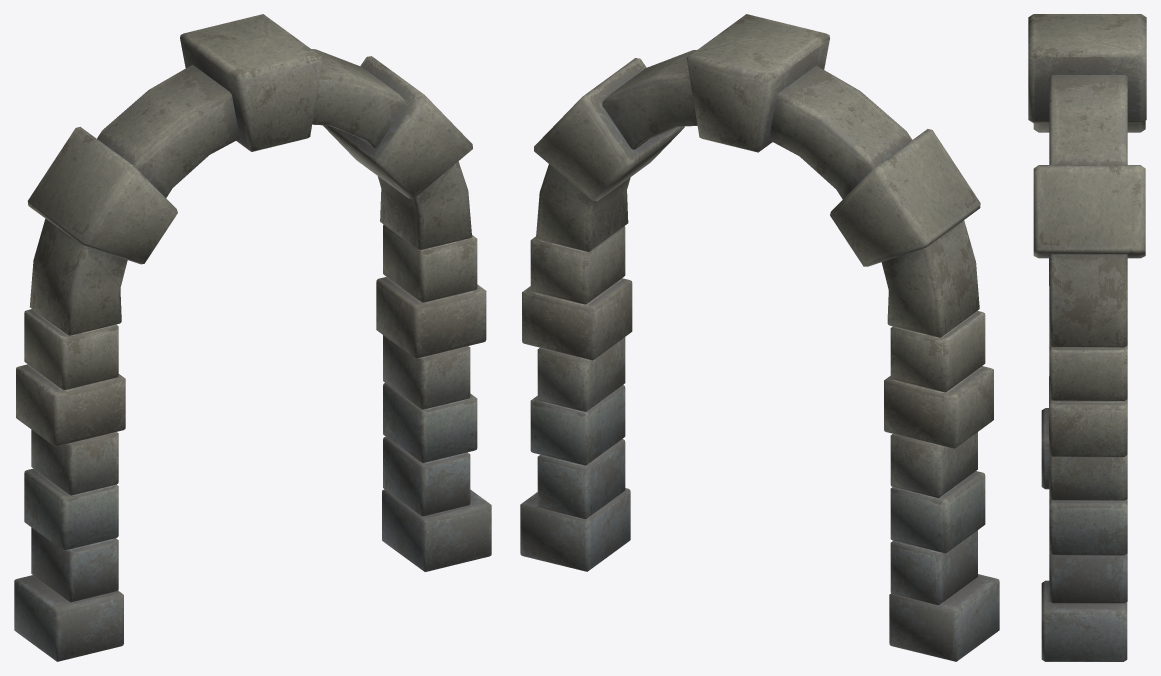
File: AD_DoorFrame_A_01.fbx
3 renders of one model, left to right at view 1: azimuth 30°, elevation 25°; view 2: azimuth 150°, elevation 25°; view 3: azimuth 270°, elevation 25°, orthographic. The views are drawn at different scales.
Visible parts, largest first — view 1: AD_DoorFrame_A_01; view 2: AD_DoorFrame_A_01; view 3: AD_DoorFrame_A_01.
Part boxes in pixels (x1,y1,x2,y2): AD_DoorFrame_A_01: [14, 14, 491, 661]; AD_DoorFrame_A_01: [520, 14, 999, 661]; AD_DoorFrame_A_01: [1028, 14, 1146, 661].
Bounding box in the file's own units: 1118 × 1342 × 273.
Materials: 1 (1 with a texture image).
